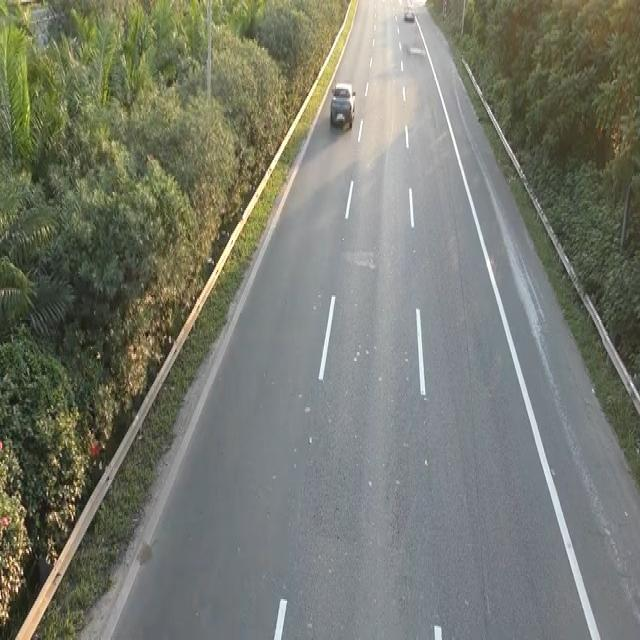car: (328, 78, 357, 130)
